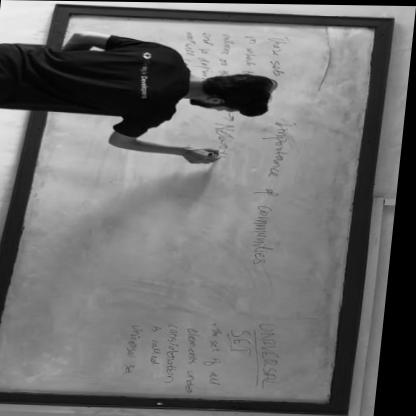Handwritten text: (247, 115, 313, 266), (261, 316, 294, 387), (120, 321, 153, 375), (186, 323, 211, 393), (238, 30, 268, 82), (263, 35, 297, 79), (210, 324, 233, 389), (167, 323, 190, 384), (210, 120, 245, 157), (195, 25, 218, 81), (215, 29, 238, 83), (176, 29, 201, 71), (151, 324, 173, 367), (233, 326, 263, 354)
Lecturer: (8, 44, 285, 125)
